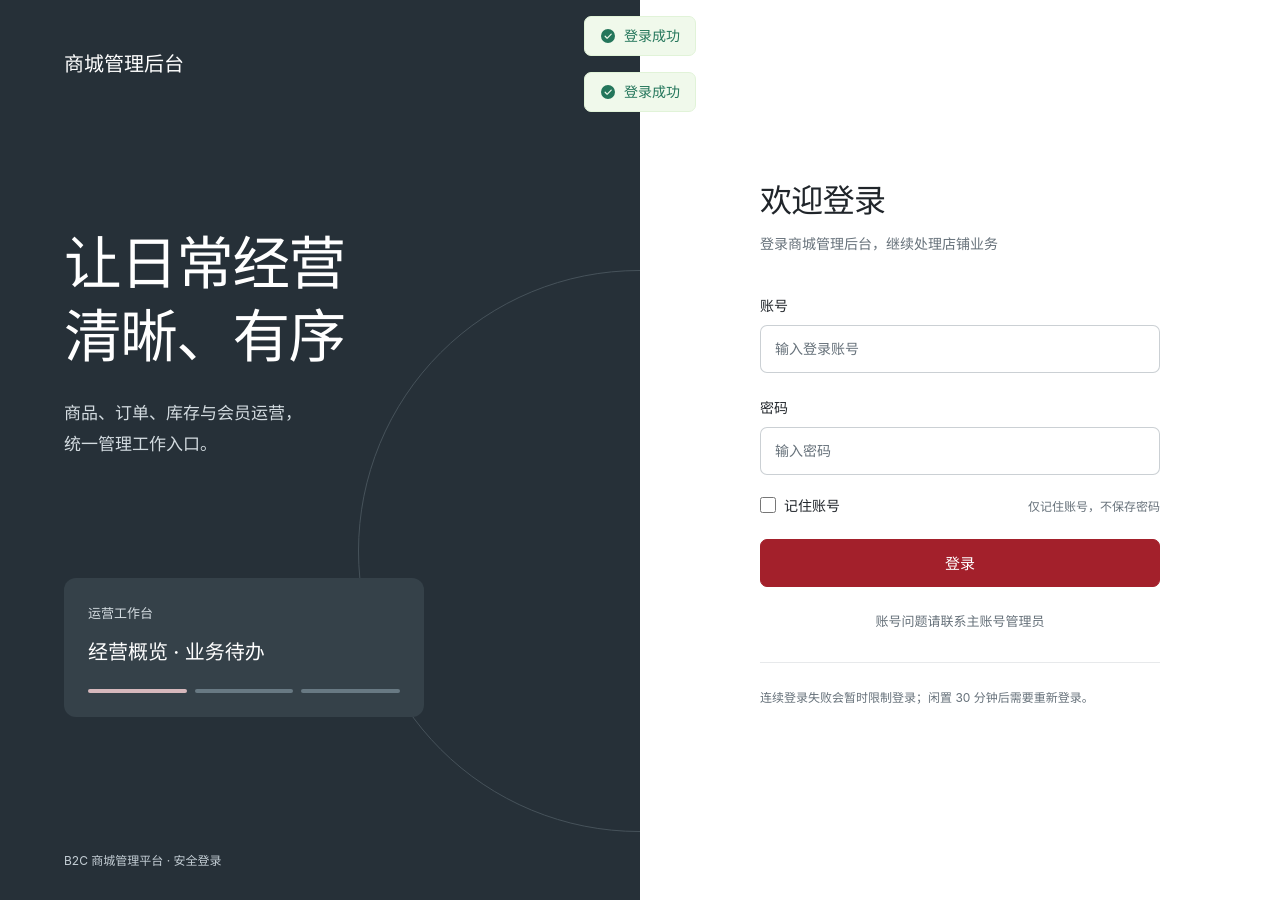
Test: pilot shell and login › still logs in when browser preference storage is unavailable
The width and height of the screenshot is (1280, 900).
In the field with id "login-name": (960, 350) [775,330,1145,368], type "operator"
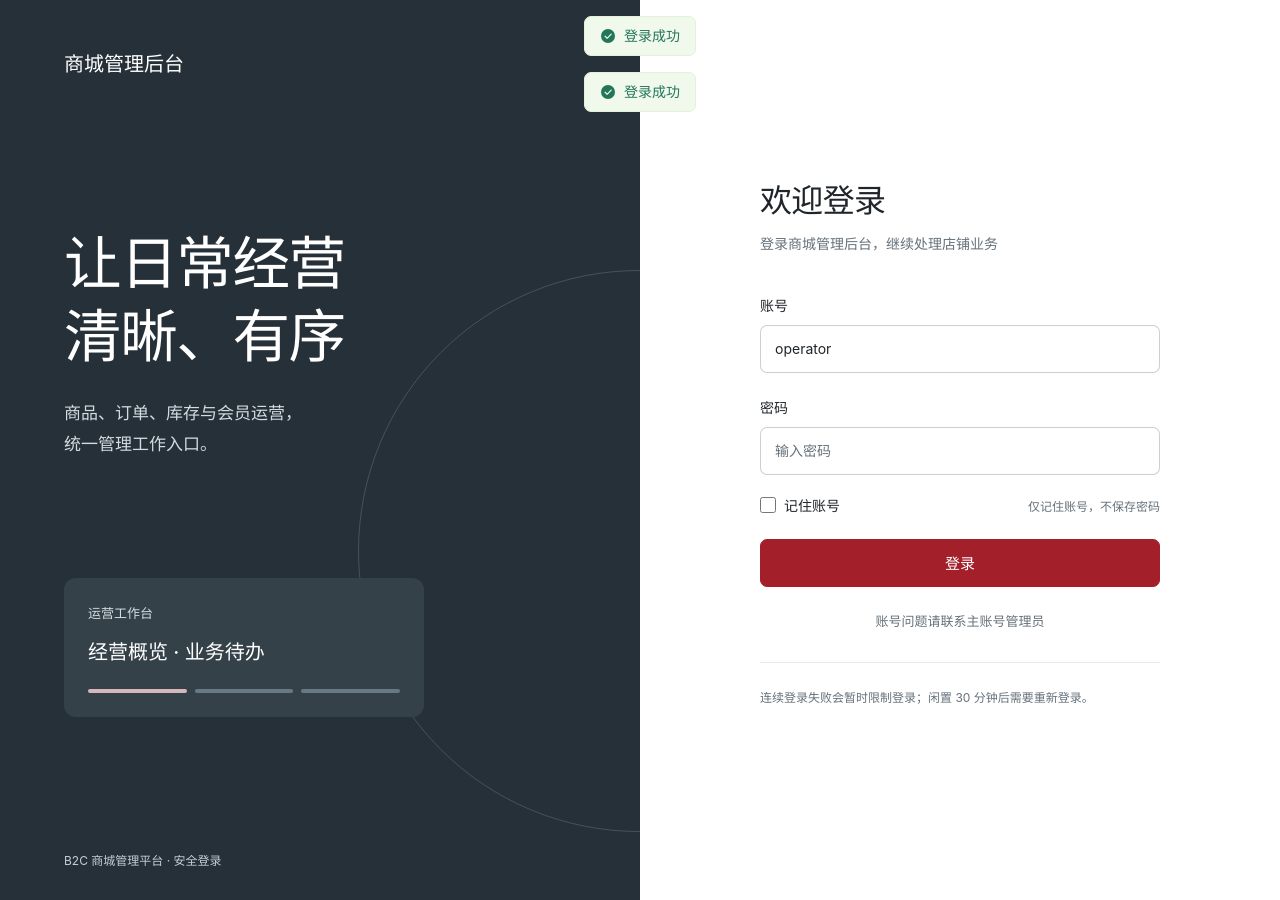
In the password field with id "login-password": (960, 452) [775,432,1145,470], type "synthetic-password"
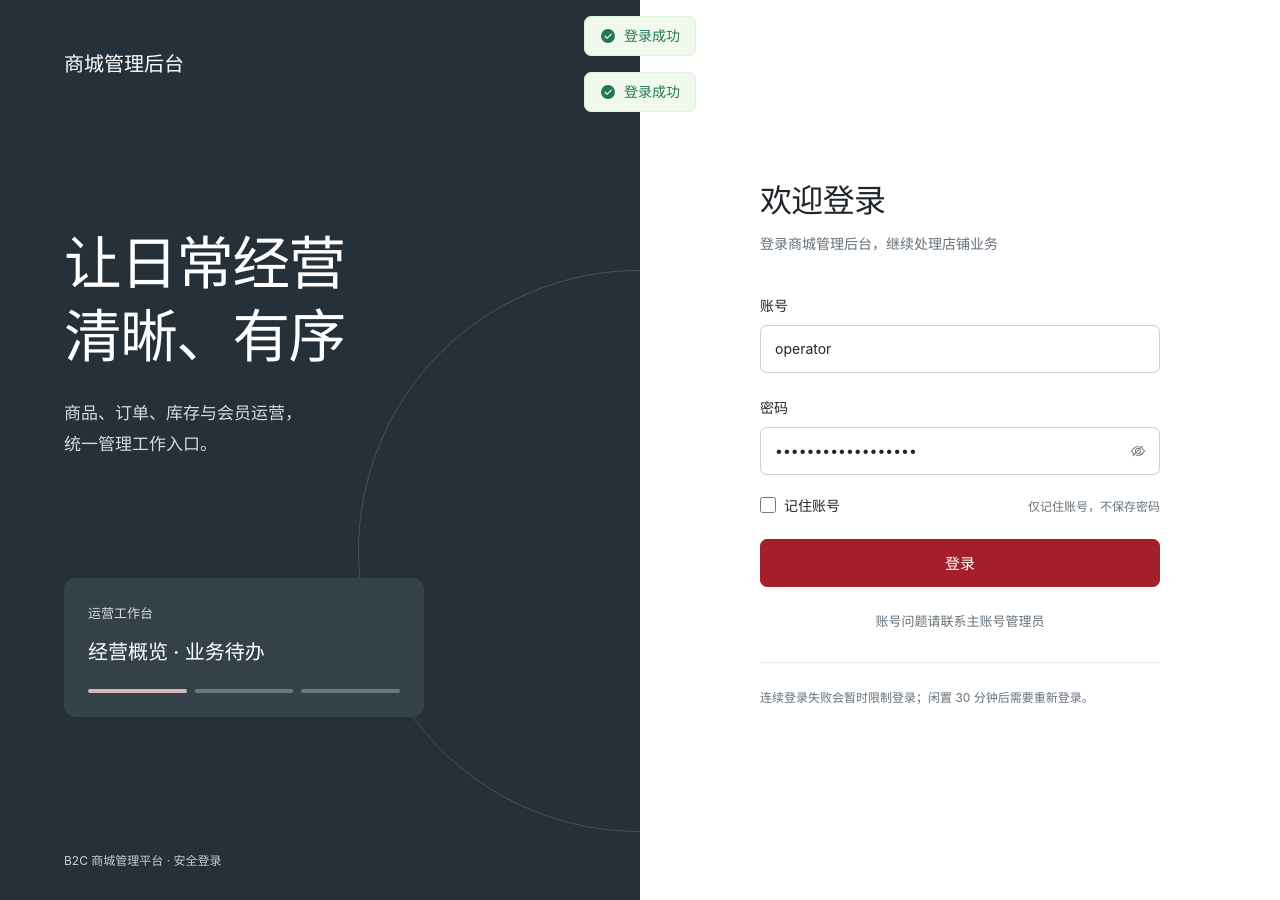
Click the checkbox labelled "记住账号": (768, 506) [760,498,776,514]
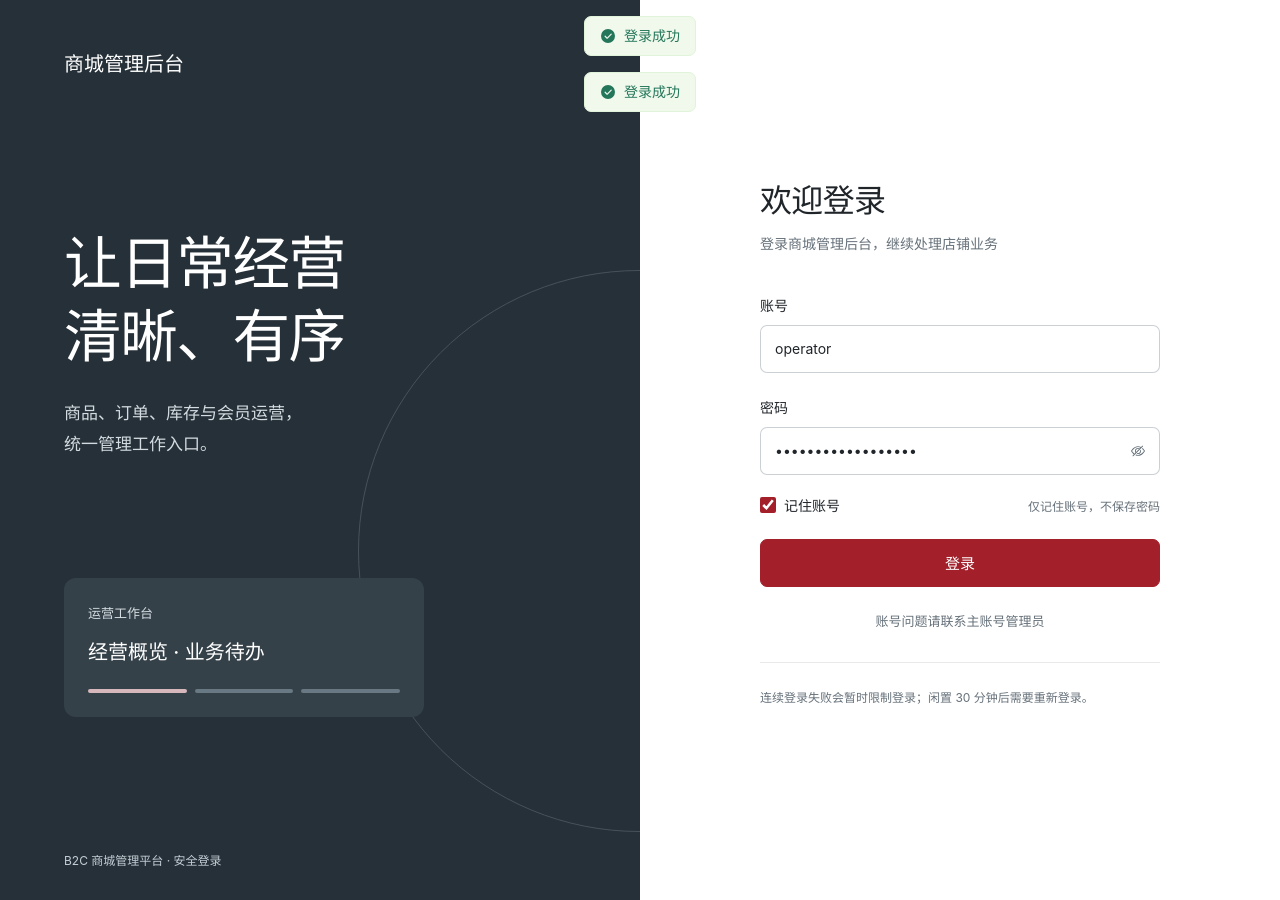
Submit the form, box [760,296,1160,588]
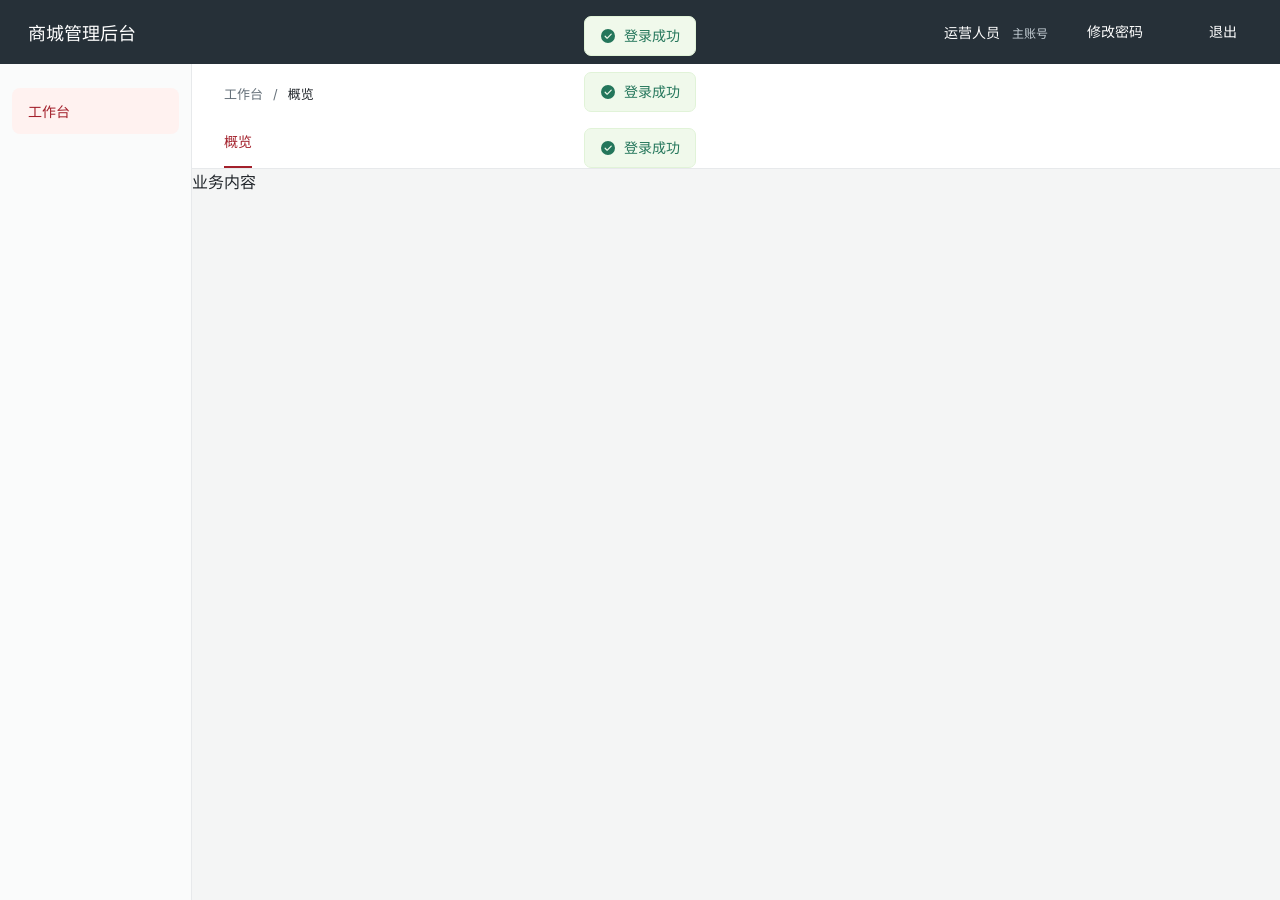
Expected: the text "业务内容" is shown, [192,172,256,192]
